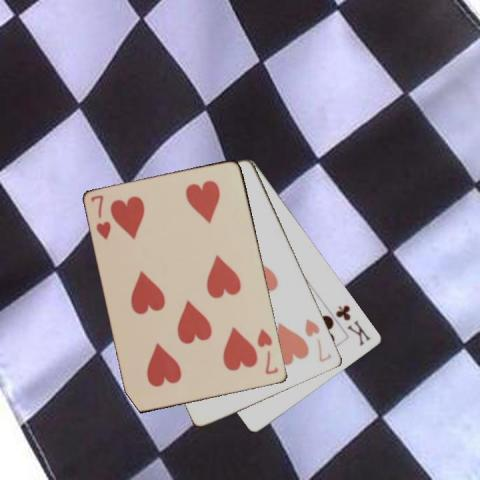7h: (302, 316, 333, 364), (255, 326, 280, 376), (88, 192, 113, 241)
Kc: (332, 302, 372, 347)
